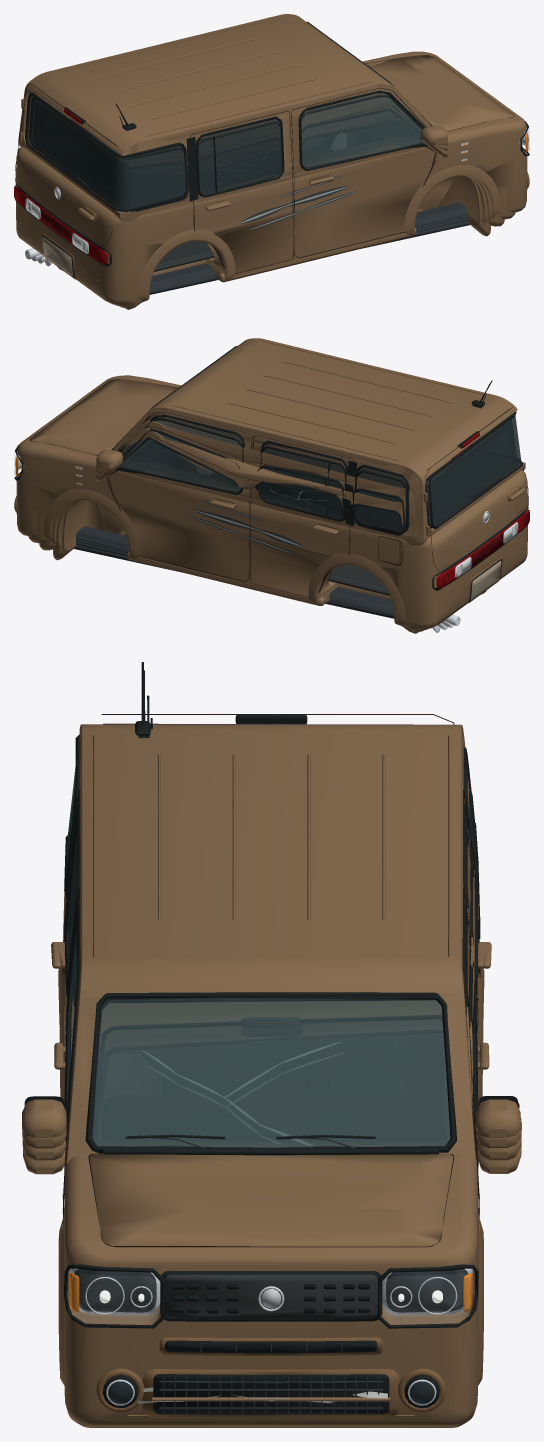
The model's file is nissan_cube_damage.glb.
3 renders of one model, top to bottom at view 1: azimuth 30°, elevation 25°; view 2: azimuth 150°, elevation 25°; view 3: azimuth 270°, elevation 25°, orthographic. The views are drawn at different scales.
Visible parts, largest first — view 1: ScuffedBrownBodywork, ScuffedWraparoundGlazing, DentedWraparoundGlazing, ScuffedRubberTrimAndUnderbody, BatteredBrownBodywork, DentedRubberTrimAndUnderbody, CrumpledBrownBodywork, DentedBrownBodywork, ScuffedHeadlightsAndIndicators, CrumpledRubberTrimAndUnderbody, BatteredRubberTrimAndUnderbody, ScuffedRearBrakeLights (+3 smaller); view 2: ScuffedBrownBodywork, ScuffedWraparoundGlazing, ScuffedRubberTrimAndUnderbody, DentedWraparoundGlazing, BatteredBrownBodywork, CrumpledBrownBodywork, BatteredWraparoundGlazing, DentedBrownBodywork, CrumpledWraparoundGlazing, DentedRubberTrimAndUnderbody, BatteredRubberTrimAndUnderbody, CrumpledRubberTrimAndUnderbody (+3 smaller); view 3: ScuffedBrownBodywork, ScuffedWraparoundGlazing, DentedWraparoundGlazing, ScuffedRubberTrimAndUnderbody, CrumpledBrownBodywork, ScuffedLampGlazing, DentedRubberTrimAndUnderbody, CrumpledRubberTrimAndUnderbody, BatteredBrownBodywork, DentedBrownBodywork, ScuffedHeadlightsAndIndicators, ScuffedChromeHandlesGrilleAndBadges (+1 smaller).
Boxes of the visible parts, <box> form: ScuffedBrownBodywork: <box>16,14,529,304</box>; ScuffedWraparoundGlazing: <box>27,93,422,209</box>; DentedWraparoundGlazing: <box>31,97,422,208</box>; ScuffedRubberTrimAndUnderbody: <box>15,21,529,290</box>; BatteredBrownBodywork: <box>124,138,490,309</box>; DentedRubberTrimAndUnderbody: <box>29,93,467,290</box>; CrumpledBrownBodywork: <box>40,96,504,307</box>; DentedBrownBodywork: <box>28,91,515,305</box>; ScuffedHeadlightsAndIndicators: <box>14,131,528,260</box>; CrumpledRubberTrimAndUnderbody: <box>71,106,467,291</box>; BatteredRubberTrimAndUnderbody: <box>121,124,469,294</box>; ScuffedRearBrakeLights: <box>14,108,107,264</box>; ScuffedBrownBodywork: <box>14,338,527,628</box>; ScuffedWraparoundGlazing: <box>126,416,521,525</box>; ScuffedRubberTrimAndUnderbody: <box>14,346,528,614</box>; DentedWraparoundGlazing: <box>127,419,517,528</box>; BatteredBrownBodywork: <box>53,428,427,633</box>; CrumpledBrownBodywork: <box>39,420,500,631</box>; BatteredWraparoundGlazing: <box>121,438,401,531</box>; DentedBrownBodywork: <box>28,410,507,629</box>; CrumpledWraparoundGlazing: <box>121,432,430,531</box>; DentedRubberTrimAndUnderbody: <box>31,383,518,614</box>; BatteredRubberTrimAndUnderbody: <box>73,404,481,618</box>; CrumpledRubberTrimAndUnderbody: <box>76,394,486,615</box>; ScuffedBrownBodywork: <box>22,724,520,1425</box>; ScuffedWraparoundGlazing: <box>67,767,450,1404</box>; DentedWraparoundGlazing: <box>68,788,449,1147</box>; ScuffedRubberTrimAndUnderbody: <box>24,662,480,1414</box>; CrumpledBrownBodywork: <box>22,775,521,1426</box>; ScuffedLampGlazing: <box>70,1274,471,1323</box>; DentedRubberTrimAndUnderbody: <box>25,670,517,1272</box>; CrumpledRubberTrimAndUnderbody: <box>61,695,518,1207</box>; BatteredBrownBodywork: <box>23,819,521,1427</box>; DentedBrownBodywork: <box>22,736,520,1426</box>; ScuffedHeadlightsAndIndicators: <box>62,1193,479,1315</box>; ScuffedChromeHandlesGrilleAndBadges: <box>85,1276,457,1405</box>.
Bounding box in the file's own units: 4.14 × 1.9 × 2.06.
